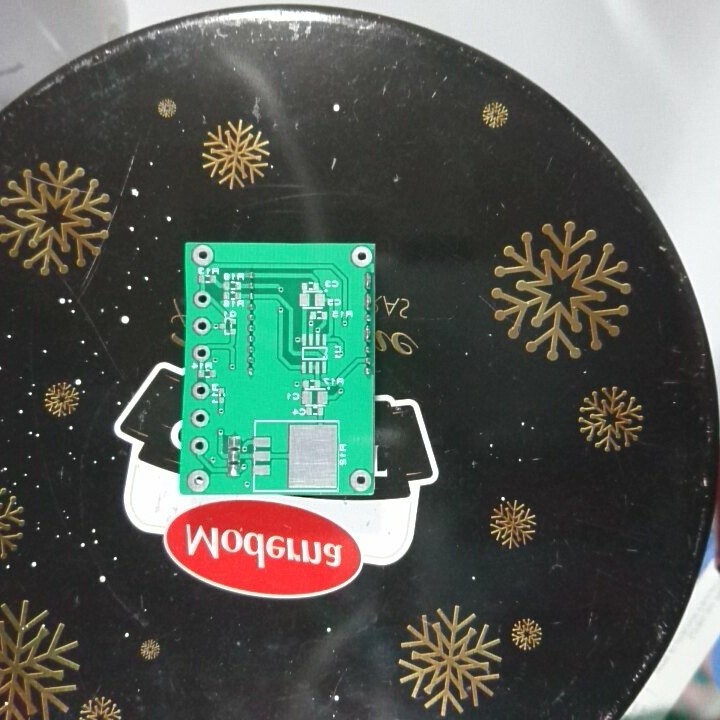F: (348, 243, 374, 269), (189, 244, 216, 267), (349, 468, 372, 494), (186, 470, 211, 492), (188, 433, 211, 456), (189, 406, 211, 429), (191, 288, 213, 309), (192, 315, 214, 336), (190, 380, 211, 402), (191, 342, 211, 363)
P: (362, 323, 375, 346), (362, 270, 374, 292), (362, 292, 375, 312)
